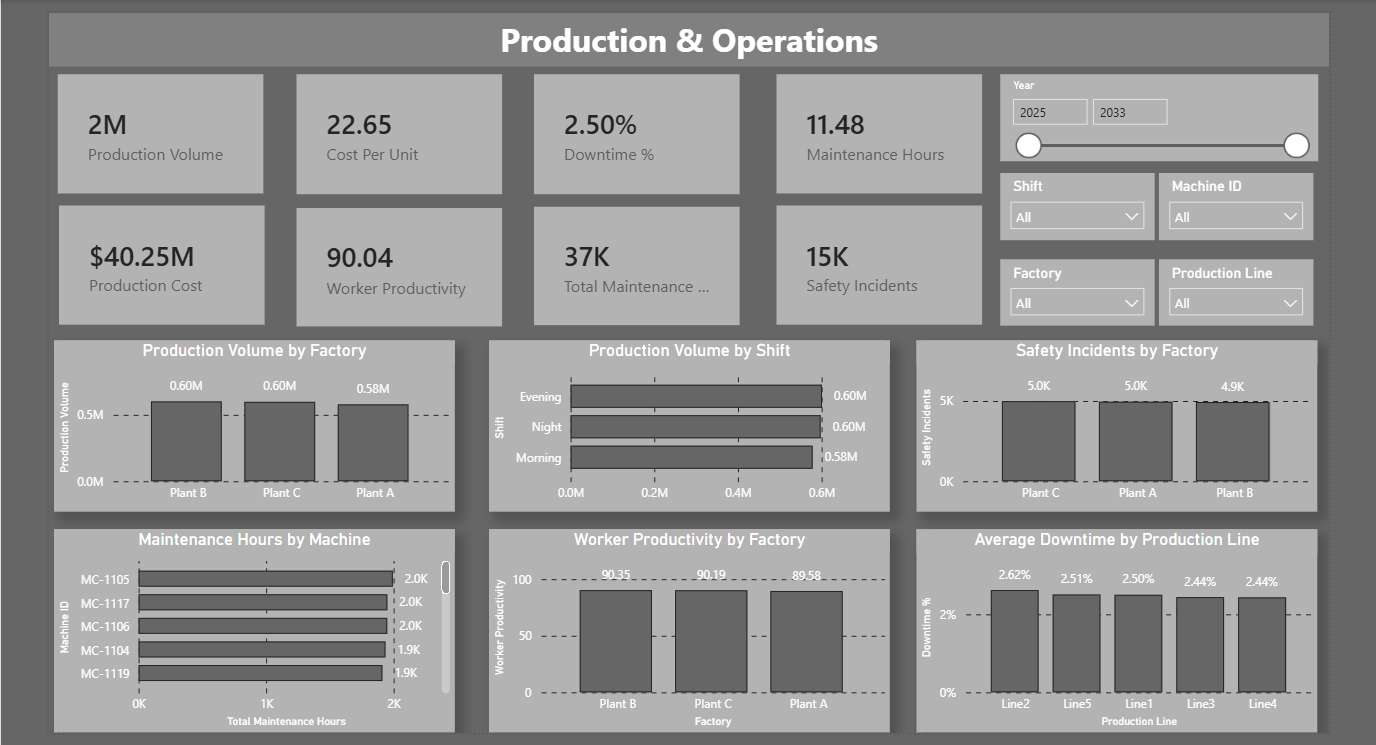

Layout of this report page (visuals, bound fields, positions):
{"tool":"powerbi","page":{"name":"Production & Operations","canvas":[1280,720],"ordinal":2},"visuals":[{"type":"cardVisual","fields":{"Data":["Measure_Table.Total Production Volume"]},"box":[9,61.7,205.7,119.5],"z":0},{"type":"cardVisual","fields":{"Data":["Measure_Table.Total Production Cost"]},"box":[10.3,192.8,205.7,119.5],"z":1000},{"type":"cardVisual","fields":{"Data":["Measure_Table.Cost Per Unit"]},"box":[247,61.1,205.4,119.8],"z":2000},{"type":"cardVisual","fields":{"Data":["Measure_Table.Average Worker Productivity"]},"box":[247,194.4,205.4,118.6],"z":3000},{"type":"cardVisual","fields":{"Data":["Measure_Table.Average Downtime %"]},"box":[485.5,61.1,205.4,119.8],"z":4000},{"type":"cardVisual","fields":{"Data":["Measure_Table.Total Maintenance Hours"]},"box":[485.5,193.2,205.4,118.6],"z":5000},{"type":"cardVisual","fields":{"Data":["Measure_Table.Average Maintenance Hours"]},"box":[727.5,61.7,205.7,119.5],"z":6000},{"type":"cardVisual","fields":{"Data":["Measure_Table.Total Safety Incidents"]},"box":[727.5,192.8,205.7,119.5],"z":7000},{"type":"clusteredColumnChart","title":"Production Volume by Factory","fields":{"Category":["Dim_Factory.Factory"],"Y":["Measure_Table.Total Production Volume"]},"box":[5.1,327.8,401,171],"z":8000},{"type":"clusteredBarChart","title":"Production Volume by Shift","fields":{"Y":["Measure_Table.Total Production Volume"],"Category":["Dim_Shift.Shift"]},"box":[439.6,327.8,401,171],"z":9000},{"type":"clusteredColumnChart","title":"Worker Productivity by Factory","fields":{"Category":["Dim_Factory.Factory"],"Y":["Measure_Table.Average Worker Productivity"]},"box":[439.6,516.7,401,203.1],"z":10000},{"type":"clusteredBarChart","title":"Maintenance Hours by Machine","fields":{"Category":["Fact_manufacturing.Machine ID"],"Y":["Measure_Table.Total Maintenance Hours"]},"box":[5.1,516.7,401,203.1],"z":11000},{"type":"columnChart","title":"Average Downtime by Production Line","fields":{"Category":["Dim_Machine.Production Line"],"Y":["Measure_Table.Average Downtime %"]},"box":[867.6,516.7,401,203.1],"z":12000},{"type":"columnChart","title":"Safety Incidents by Factory","fields":{"Y":["Measure_Table.Total Safety Incidents"],"Category":["Dim_Factory.Factory"]},"box":[867.6,327.8,401,171],"z":13000},{"type":"slicer","fields":{"Values":["Dim_Date.Year"]},"box":[951.2,61.7,317.5,86.1],"z":14000},{"type":"slicer","fields":{"Values":["Dim_Factory.Factory"]},"box":[951.4,245.8,154.1,66],"z":15000},{"type":"slicer","fields":{"Values":["Dim_Machine.Production Line"]},"box":[1110.3,245.8,154.1,66],"z":16000},{"type":"slicer","fields":{"Values":["Dim_Machine.Machine ID"]},"box":[1110.6,159.4,154.2,66.8],"z":17000},{"type":"slicer","fields":{"Values":["Dim_Shift.Shift"]},"box":[951.2,159.4,154.2,66.8],"z":18000},{"type":"textbox","box":[0,0,1280.3,54],"z":19000}]}

Visuals, with their boxes in screenshot pixels (x1, y1, x2, y2):
cardVisual - Measure_Table.Total Production Volume: {"left": 66, "top": 75, "right": 269, "bottom": 193}
cardVisual - Measure_Table.Total Production Cost: {"left": 67, "top": 204, "right": 270, "bottom": 322}
cardVisual - Measure_Table.Cost Per Unit: {"left": 301, "top": 74, "right": 503, "bottom": 192}
cardVisual - Measure_Table.Average Worker Productivity: {"left": 301, "top": 206, "right": 503, "bottom": 323}
cardVisual - Measure_Table.Average Downtime %: {"left": 535, "top": 74, "right": 738, "bottom": 192}
cardVisual - Measure_Table.Total Maintenance Hours: {"left": 535, "top": 205, "right": 738, "bottom": 321}
cardVisual - Measure_Table.Average Maintenance Hours: {"left": 774, "top": 75, "right": 976, "bottom": 193}
cardVisual - Measure_Table.Total Safety Incidents: {"left": 774, "top": 204, "right": 976, "bottom": 322}
"Production Volume by Factory" clusteredColumnChart: {"left": 62, "top": 337, "right": 457, "bottom": 505}
"Production Volume by Shift" clusteredBarChart: {"left": 490, "top": 337, "right": 885, "bottom": 505}
"Worker Productivity by Factory" clusteredColumnChart: {"left": 490, "top": 523, "right": 885, "bottom": 723}
"Maintenance Hours by Machine" clusteredBarChart: {"left": 62, "top": 523, "right": 457, "bottom": 723}
"Average Downtime by Production Line" columnChart: {"left": 912, "top": 523, "right": 1306, "bottom": 723}
"Safety Incidents by Factory" columnChart: {"left": 912, "top": 337, "right": 1306, "bottom": 505}
slicer - Dim_Date.Year: {"left": 994, "top": 75, "right": 1307, "bottom": 160}
slicer - Dim_Factory.Factory: {"left": 994, "top": 256, "right": 1146, "bottom": 321}
slicer - Dim_Machine.Production Line: {"left": 1151, "top": 256, "right": 1302, "bottom": 321}
slicer - Dim_Machine.Machine ID: {"left": 1151, "top": 171, "right": 1303, "bottom": 237}
slicer - Dim_Shift.Shift: {"left": 994, "top": 171, "right": 1146, "bottom": 237}
textbox: {"left": 57, "top": 14, "right": 1318, "bottom": 68}
